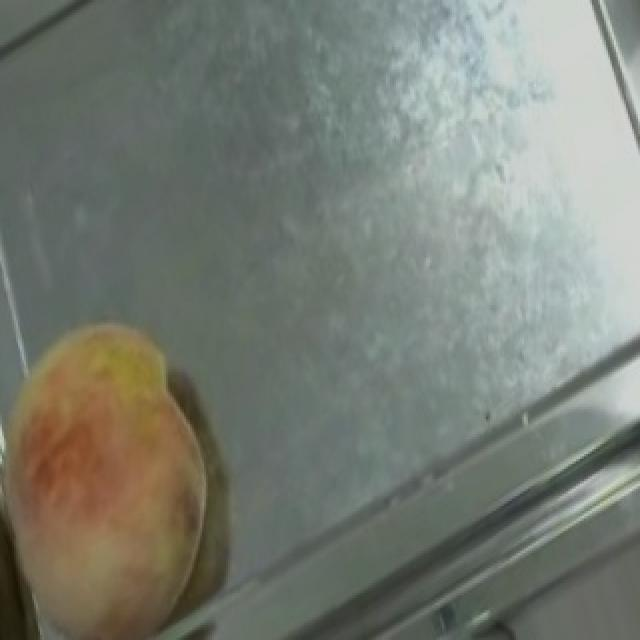Fruit: (0, 283, 252, 640)
